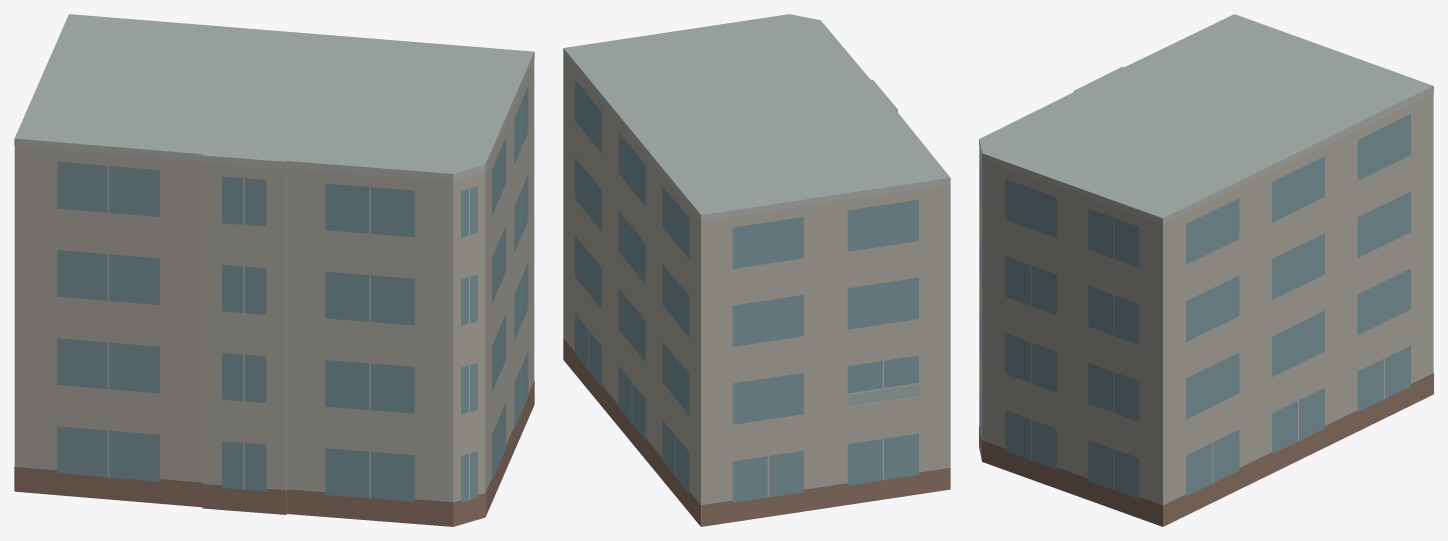
The model's file is survey-upis-32948815.glb.
3 views of the same model, side by side, from view 1: azimuth 30°, elevation 25°; view 2: azimuth 150°, elevation 25°; view 3: azimuth 270°, elevation 25° (orthographic). The views are drawn at different scales.
Visible parts, largest first — view 1: survey-upis-32948815.tmp; view 2: survey-upis-32948815.tmp; view 3: survey-upis-32948815.tmp.
Boxes of the visible parts, bbox=[...] form: survey-upis-32948815.tmp: bbox=[14, 14, 534, 526]; survey-upis-32948815.tmp: bbox=[563, 14, 950, 526]; survey-upis-32948815.tmp: bbox=[979, 14, 1433, 526].
Bounding box in the file's own units: 16.77 × 11.8 × 15.76.
